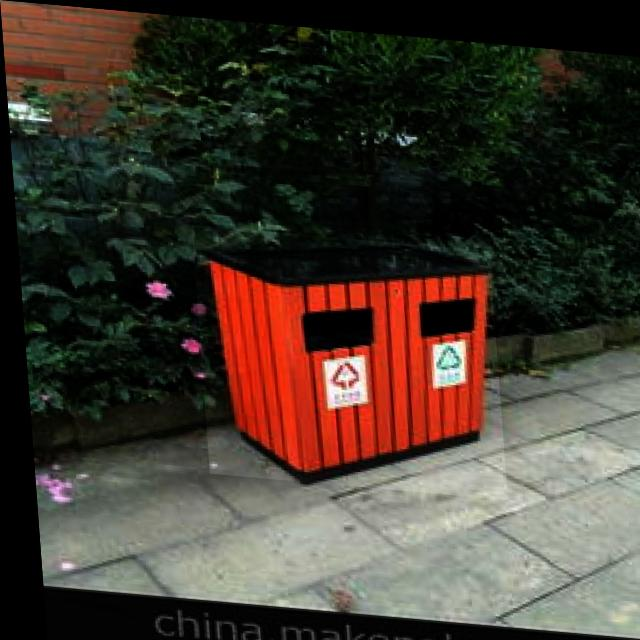garbage_bin: (188, 221, 500, 491)
